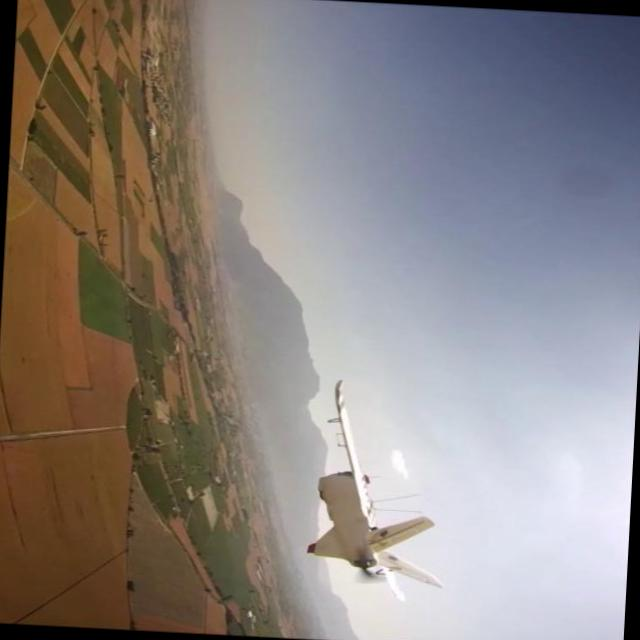UAV: (202, 390, 463, 618)
